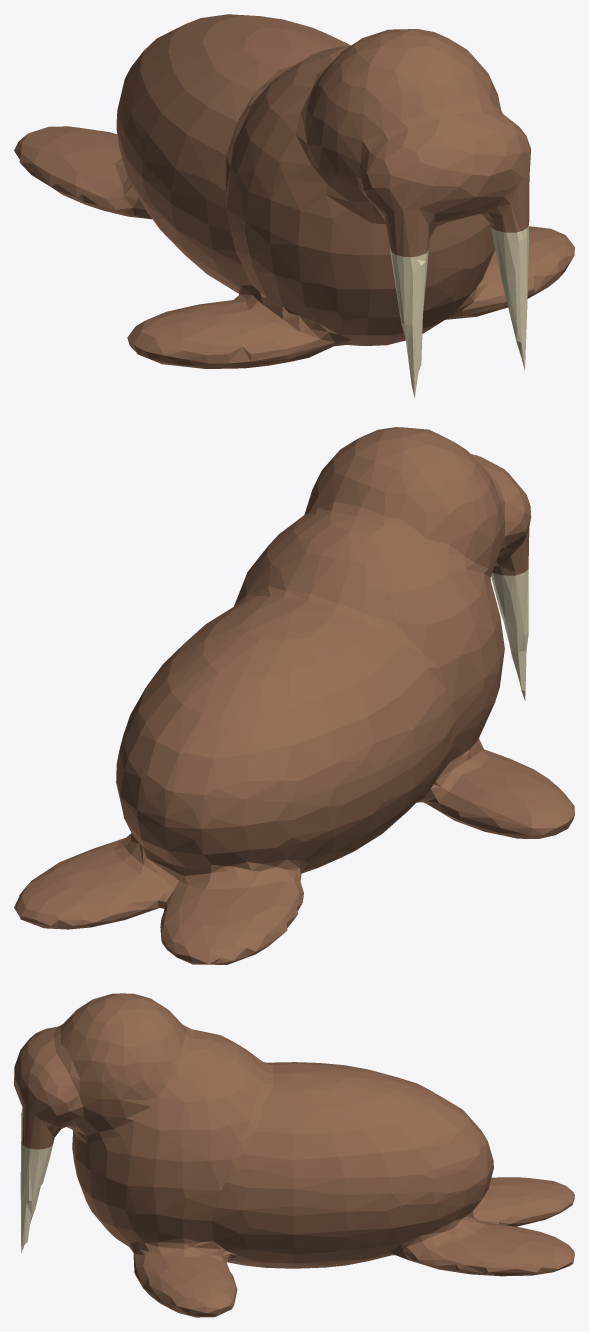
File: NEW_RECOVERY_045_LOD1.glb
The picture shows the model from 3 angles, top to bottom: view 1: azimuth 30°, elevation 25°; view 2: azimuth 150°, elevation 25°; view 3: azimuth 270°, elevation 25°; orthographic projection. The views are drawn at different scales.
Visible parts, largest first — view 1: WholeWalrus; view 2: WholeWalrus; view 3: WholeWalrus.
Part boxes in pixels (box(x1,y1,x2,y2)): WholeWalrus: box(14, 14, 574, 397); WholeWalrus: box(14, 427, 574, 964); WholeWalrus: box(14, 993, 574, 1317).
Bounding box in the file's own units: 3.59 × 2.61 × 5.16.
